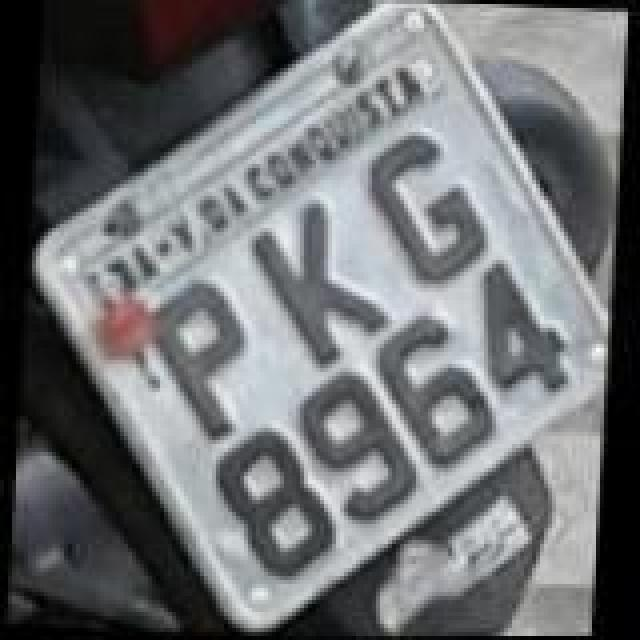4: (476, 258, 592, 398)
6: (370, 318, 506, 478)
8: (212, 418, 344, 586)
9: (290, 358, 426, 534)
G: (358, 130, 502, 298)
K: (246, 200, 390, 372)
P: (140, 278, 256, 446)
